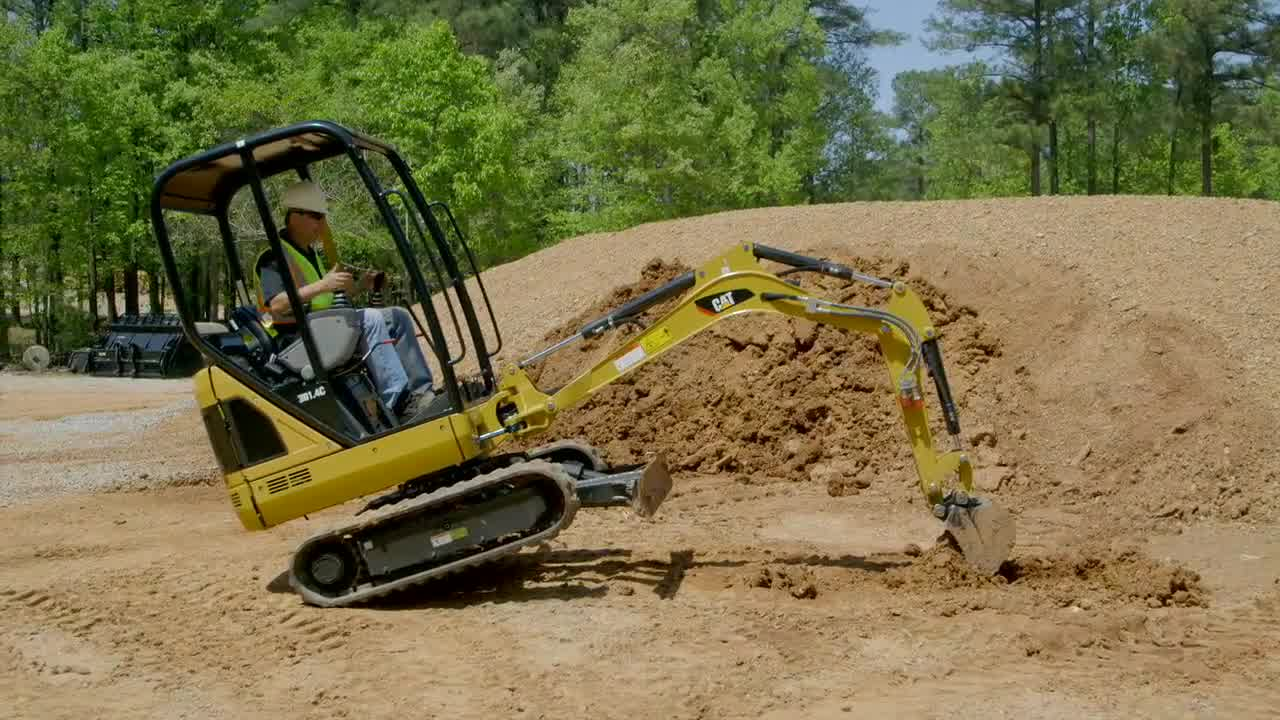attachment-bucket: (931, 484, 1021, 599)
cabin: (145, 114, 517, 531)
forearm: (878, 278, 972, 508)
upperarm: (543, 269, 894, 413)
wheelbase: (287, 439, 612, 612)
